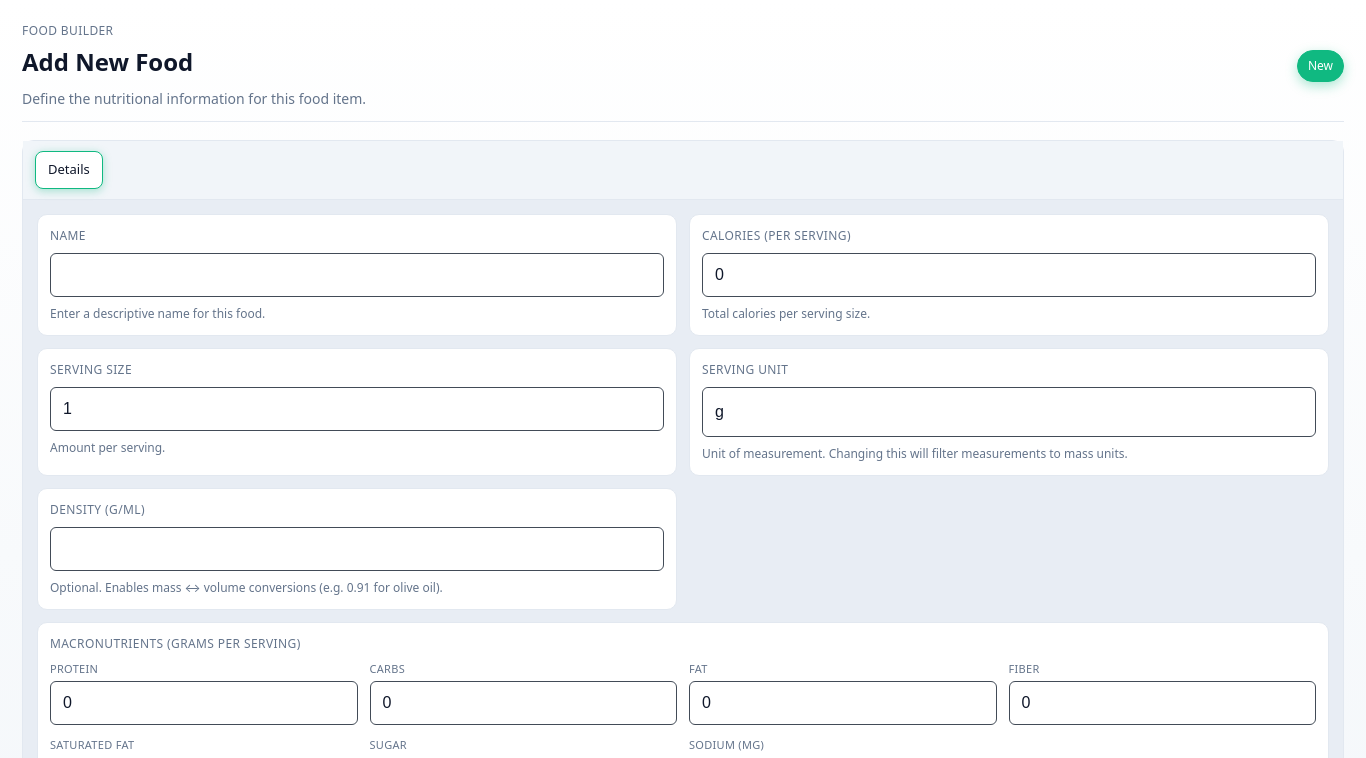
Food Store Page - Add Food › Duplicate Name Validation › shows error when food name matches existing food (exact match)
Type "Chicken Breast" into the field with placeholder "e.g. Chicken Breast" at (357, 274), box [50,252,664,296]
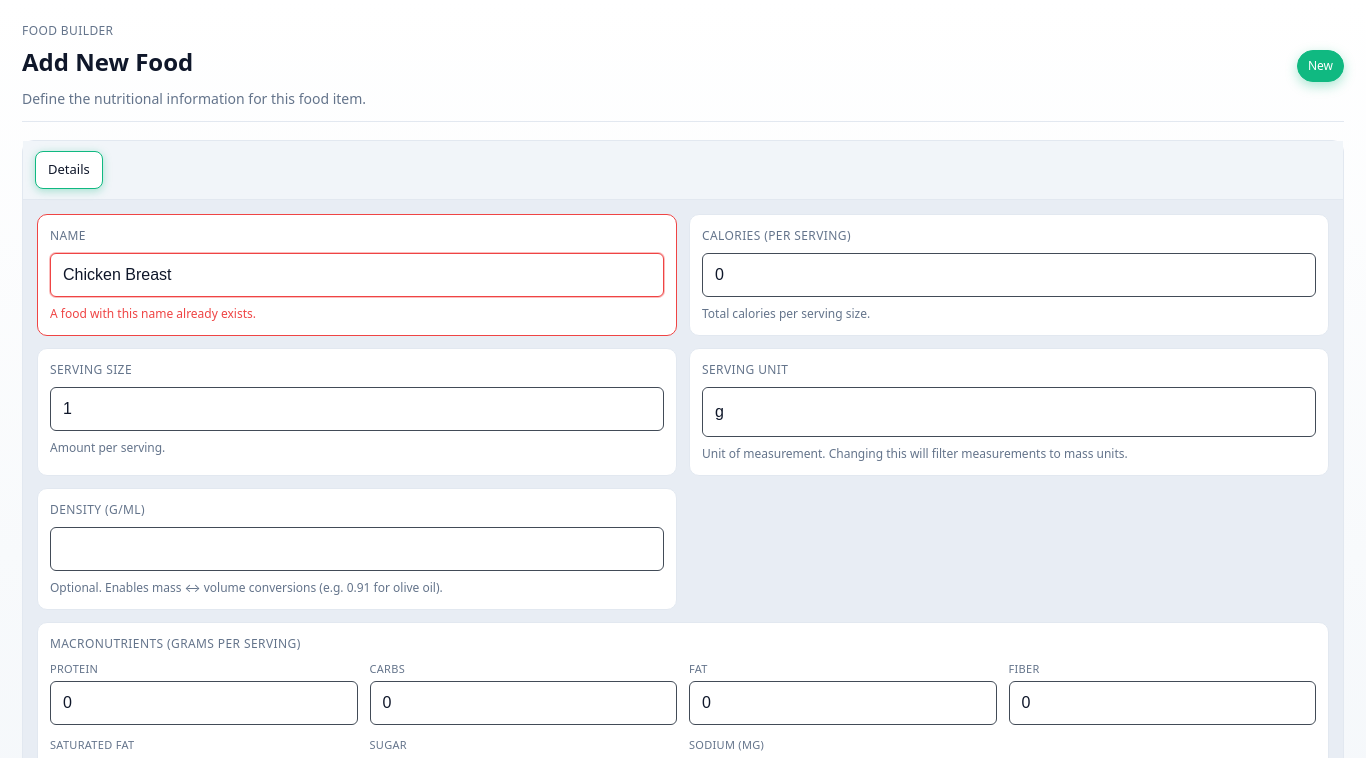
Check: the message reads "A food with this name already exists.", box [50,304,256,322]
